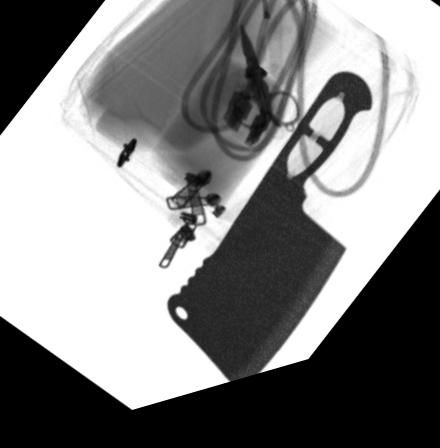Knife: (167, 89, 373, 395)
Scissors: (232, 36, 303, 144)
